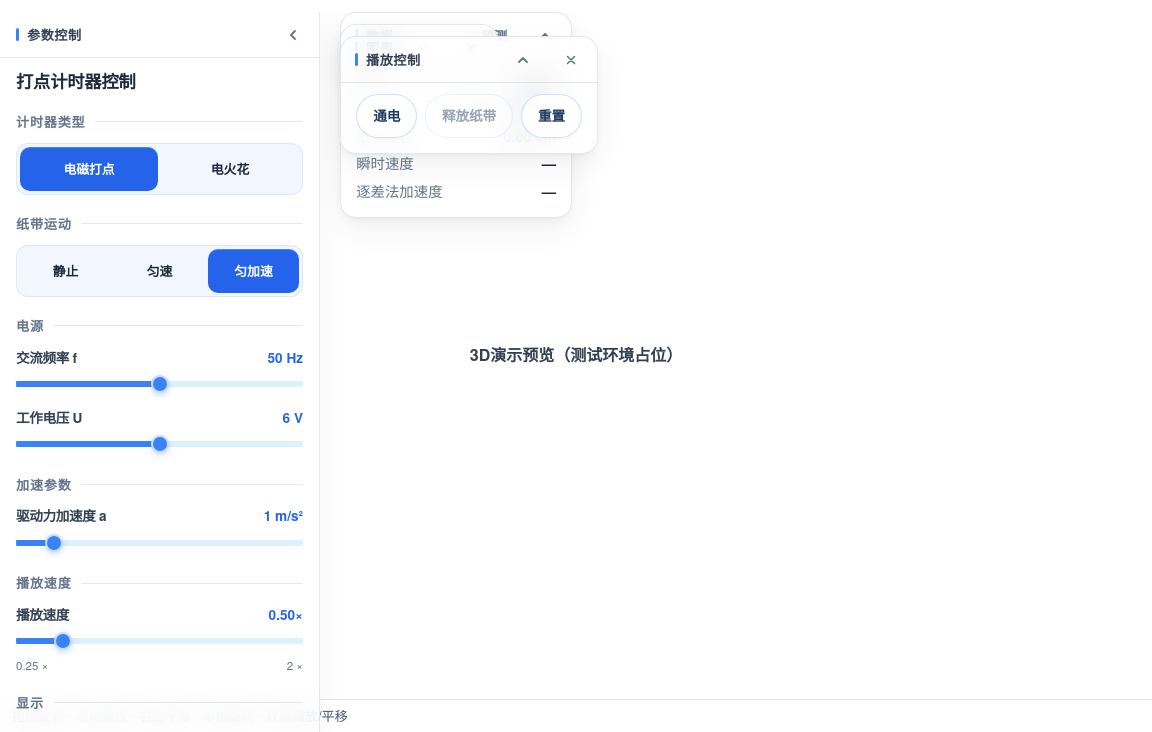
Test: ticker-timer structure › switches to the spark timer and starts the always frameloop when powered
Click the radio button labelled "电火花" at point(230, 169), box x1=161 y1=147 x2=299 y2=191
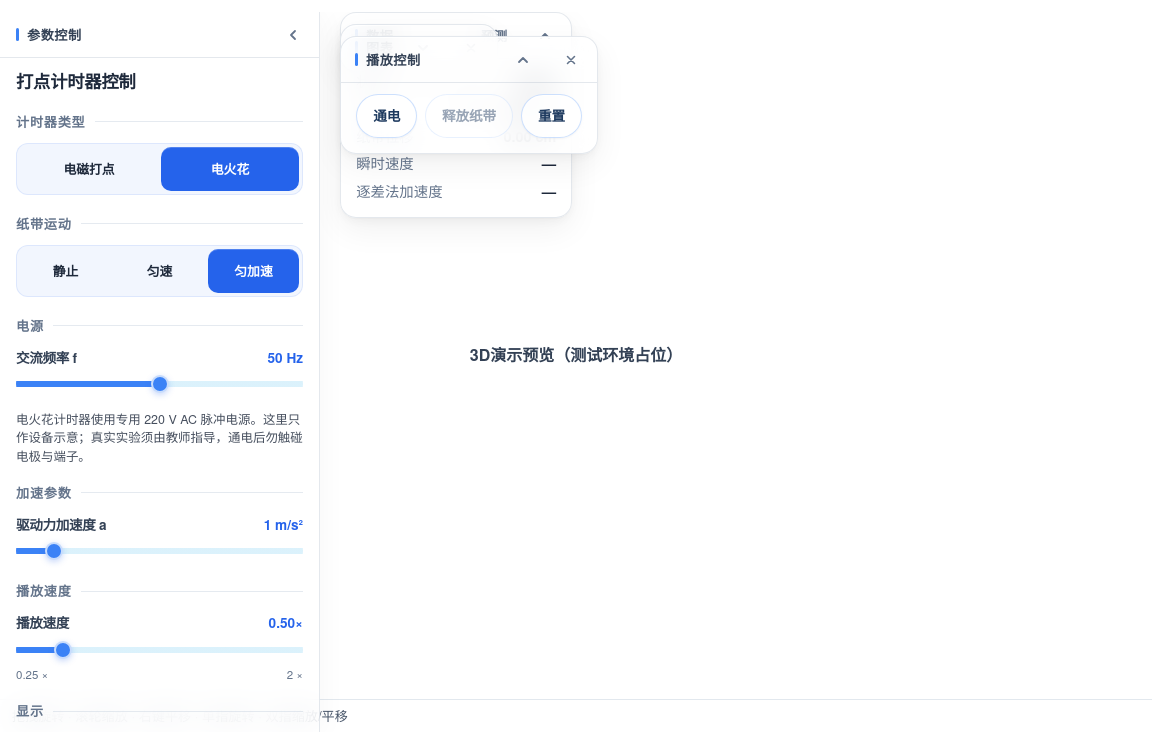
Click the button "通电" at point(387, 116), box x1=356 y1=94 x2=417 y2=138
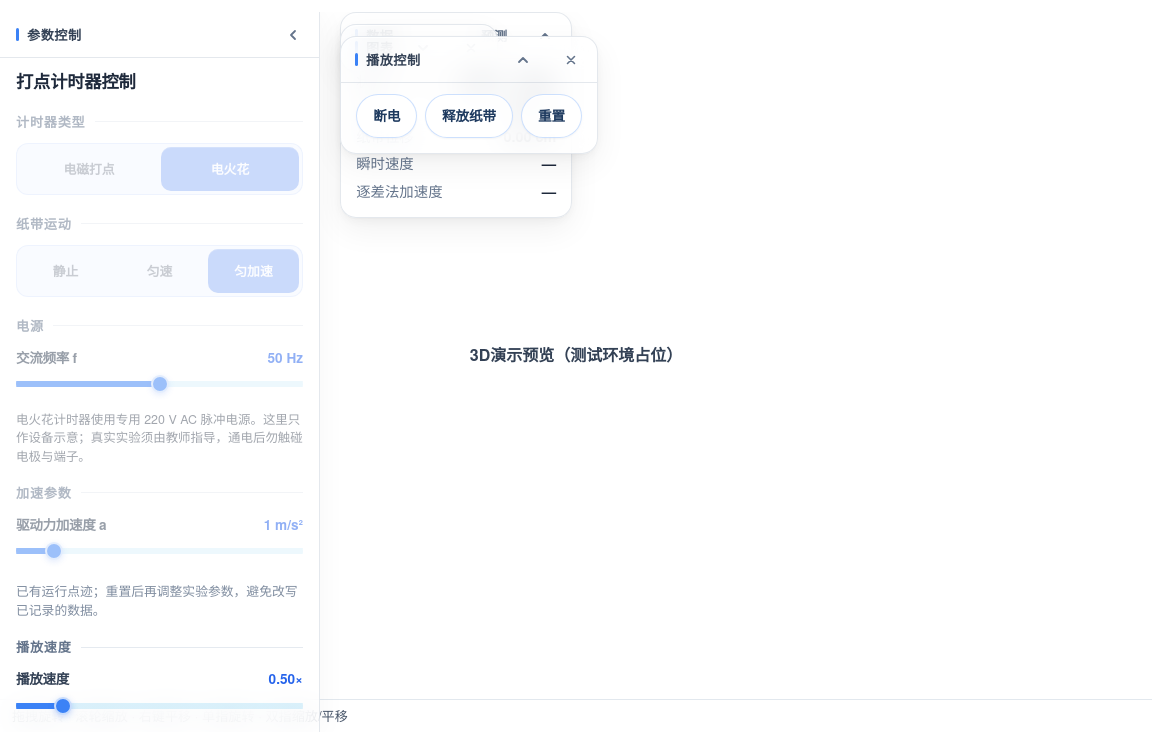
Now the button "断电" is shown, box x1=356 y1=94 x2=417 y2=138
